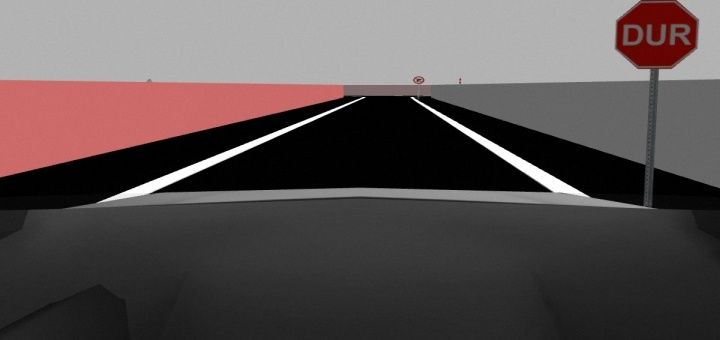dur: (613, 1, 699, 75)
